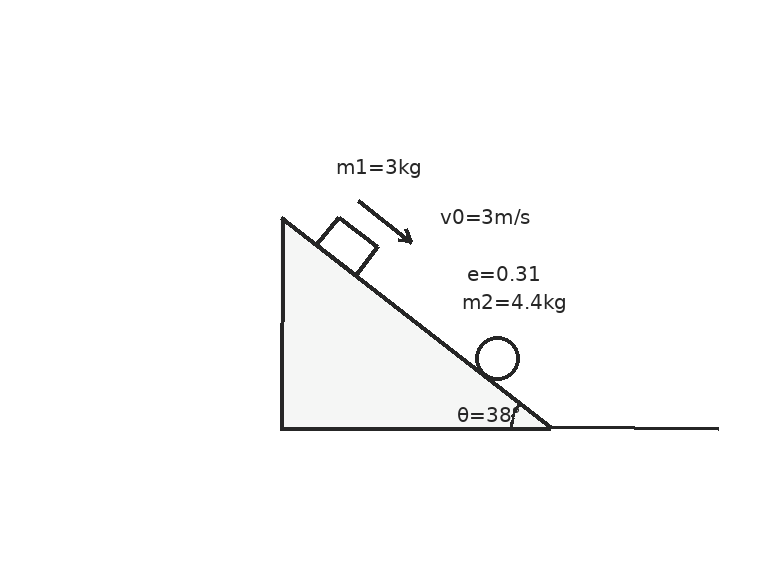ball: (473, 334, 521, 382)
block: (315, 215, 379, 277)
ramp: (279, 215, 553, 430)
